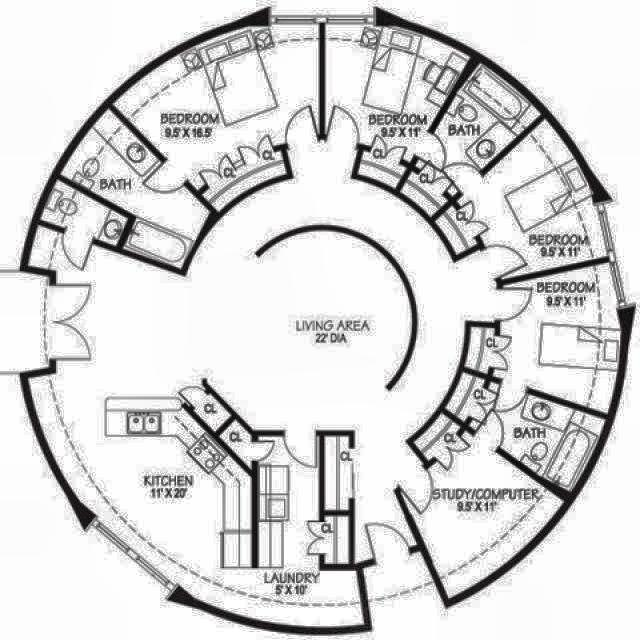room: (0, 57, 534, 640), (425, 119, 636, 329), (352, 409, 564, 618), (45, 109, 223, 288), (384, 62, 542, 229), (433, 364, 606, 493), (41, 179, 131, 250)
